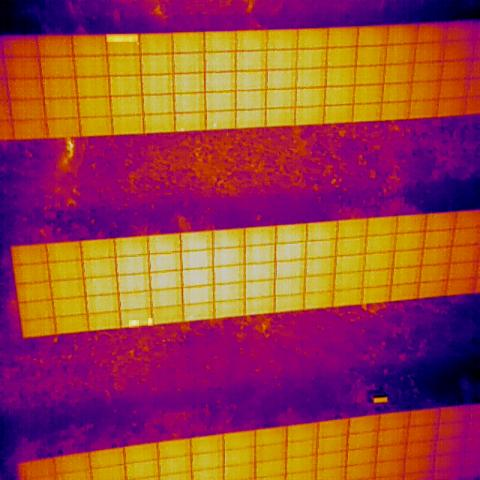fault: (106, 34, 137, 42), (130, 320, 140, 328), (148, 318, 153, 326)
